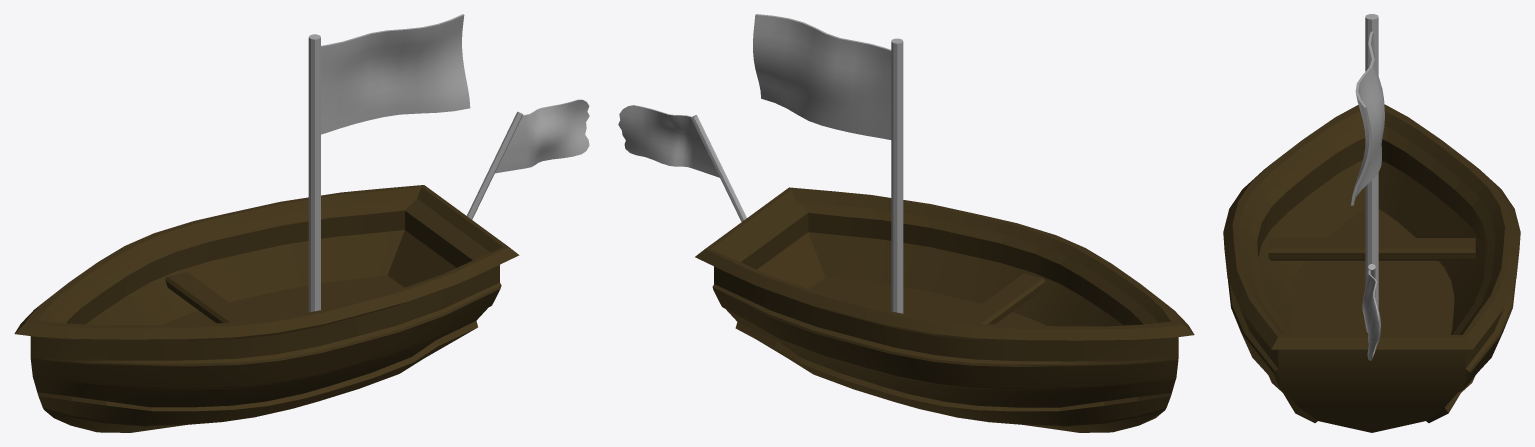
File: EnemyTier1.fbx
3 views of the same model, side by side, from view 1: azimuth 30°, elevation 25°; view 2: azimuth 150°, elevation 25°; view 3: azimuth 270°, elevation 25° (orthographic). The views are drawn at different scales.
Parts seen in each view (by area): view 1: pCube4, pCylinder3; view 2: pCube4, pCylinder3; view 3: pCube4, pCylinder3.
Part boxes in pixels (<box>): pCube4: <box>14,185,519,432</box>; pCylinder3: <box>308,14,589,312</box>; pCube4: <box>695,187,1194,432</box>; pCylinder3: <box>618,14,903,313</box>; pCube4: <box>1223,104,1520,432</box>; pCylinder3: <box>1351,14,1384,360</box>.
Bounding box in the file's own units: 3.91 × 2.28 × 1.58.
